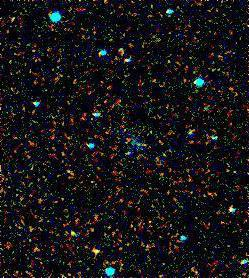star: (107, 36, 137, 66)
